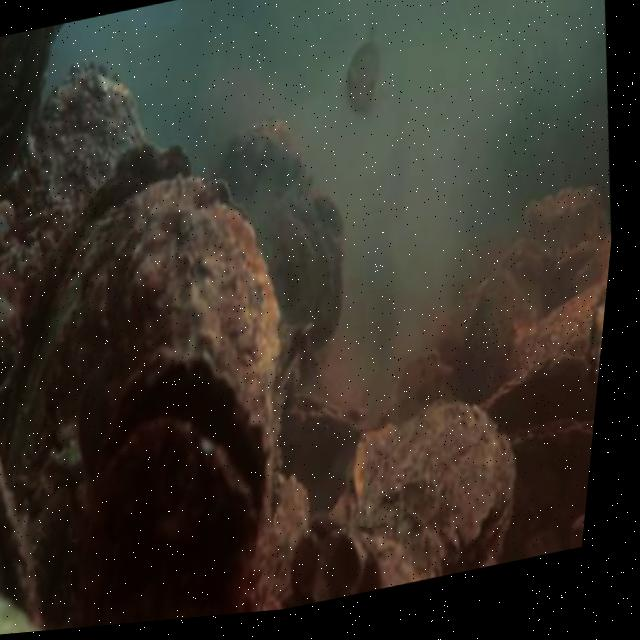Oyster-Closed: (507, 415, 595, 559)
Oyster-Indeterminate: (105, 174, 280, 416), (343, 401, 516, 579), (215, 124, 344, 354), (16, 69, 145, 253), (485, 348, 598, 429)
Oyster-Open: (1, 143, 188, 494), (89, 347, 271, 627), (0, 25, 55, 179)
